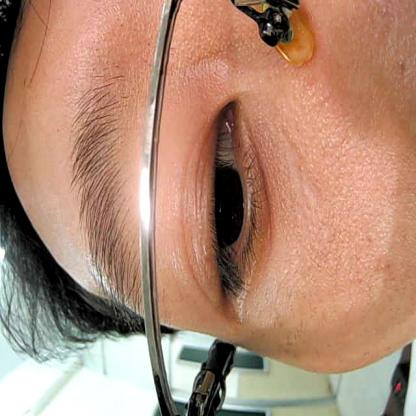Down: (180, 84, 278, 324)
